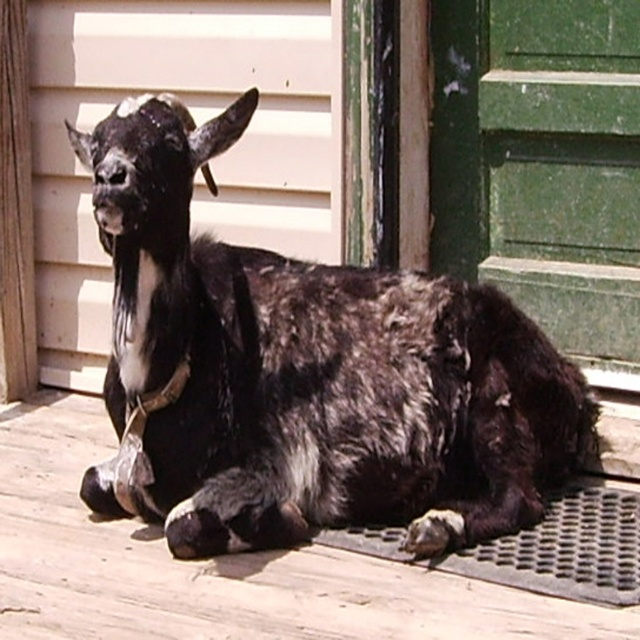Goat: (86, 105, 582, 556)
